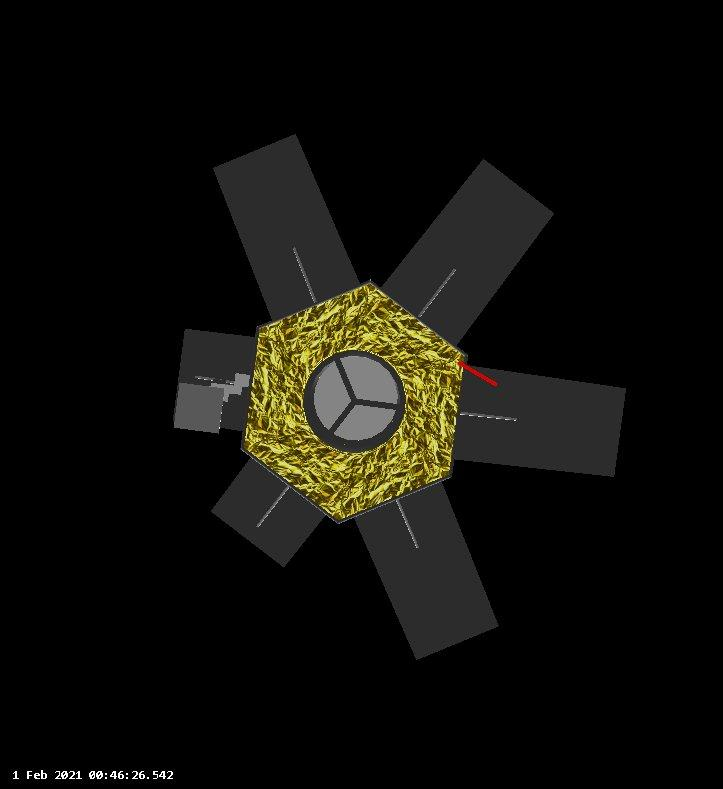antenna: (455, 360, 499, 390)
body: (239, 278, 469, 526)
solar: (376, 156, 558, 351), (212, 131, 364, 324), (355, 477, 501, 662), (451, 361, 629, 479), (210, 456, 330, 570), (174, 327, 258, 435)
